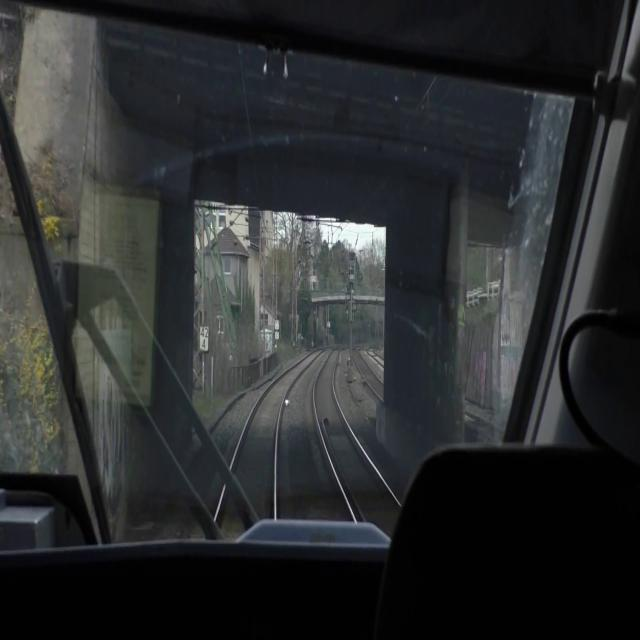rail-track: (316, 351, 396, 517), (234, 355, 313, 519), (354, 348, 381, 392)
